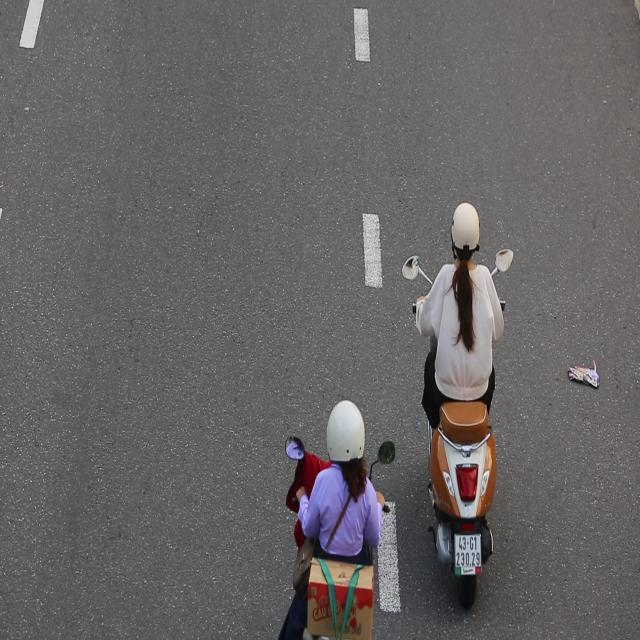motorbike: (402, 197, 515, 610)
